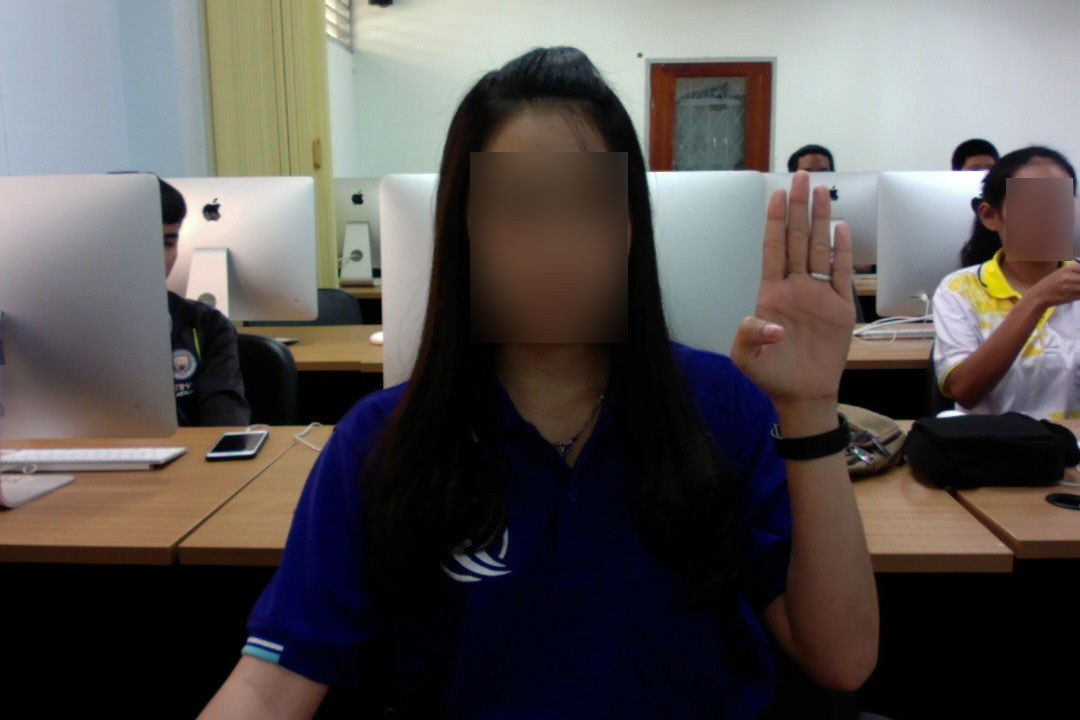bor: (712, 156, 871, 445)
